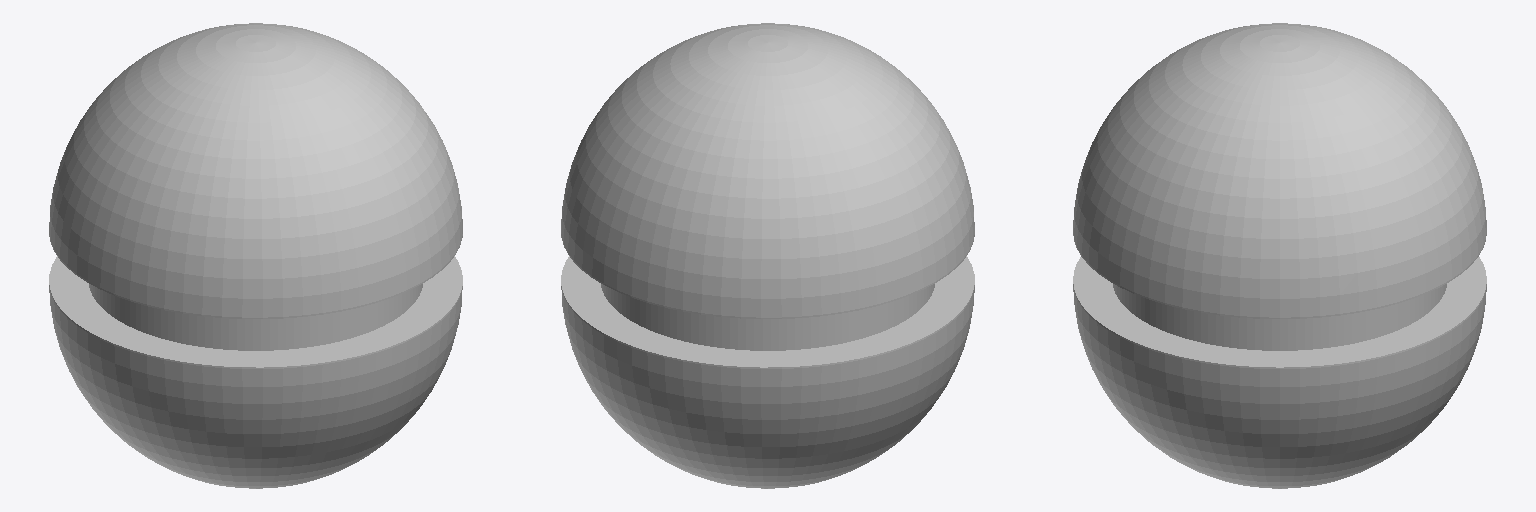
Rendered from droid_anim_000012.obj.
3 renders of one model, left to right at view 1: azimuth 30°, elevation 25°; view 2: azimuth 150°, elevation 25°; view 3: azimuth 270°, elevation 25°, orthographic.
Visible parts, largest first — view 1: Sphere.004, Sphere.005, Cylinder.002; view 2: Sphere.004, Sphere.005, Cylinder.002; view 3: Sphere.004, Sphere.005, Cylinder.002.
Part boxes in pixels (bbox=[...]): Sphere.004: bbox=[49, 23, 462, 318]; Sphere.005: bbox=[49, 256, 462, 488]; Cylinder.002: bbox=[89, 284, 422, 350]; Sphere.004: bbox=[561, 23, 974, 318]; Sphere.005: bbox=[561, 256, 974, 488]; Cylinder.002: bbox=[601, 284, 934, 350]; Sphere.004: bbox=[1073, 23, 1486, 318]; Sphere.005: bbox=[1073, 257, 1486, 488]; Cylinder.002: bbox=[1113, 284, 1446, 350].
Size of the model in its own units: 2 by 2.27 by 2.